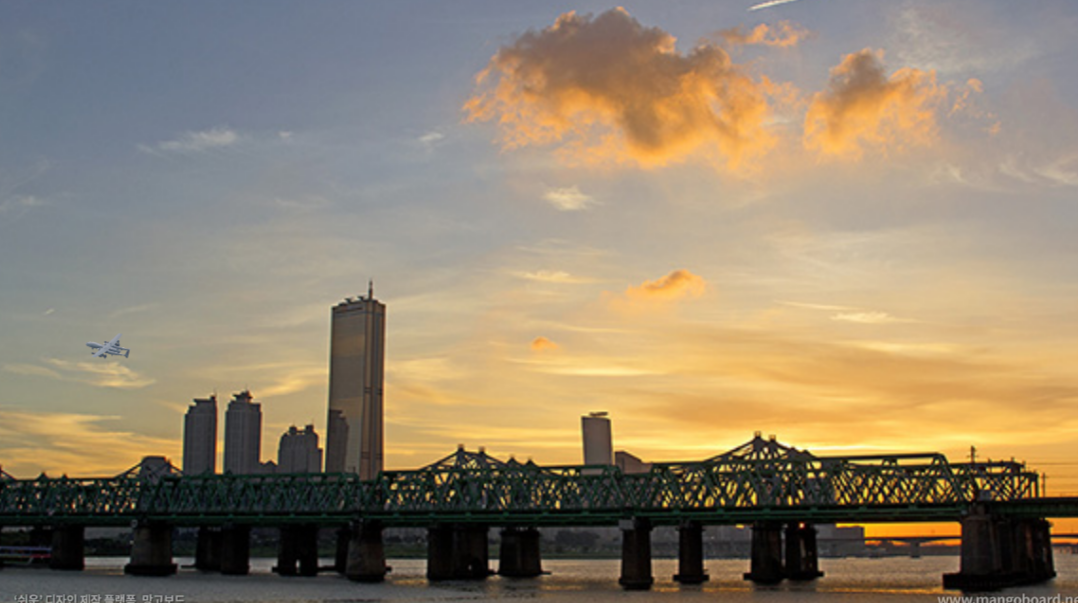military drone: (85, 333, 129, 359)
